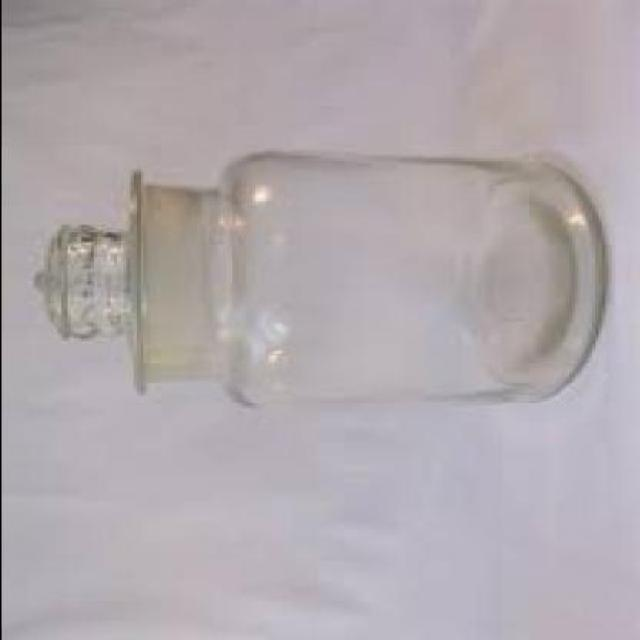GLASS: (30, 158, 604, 410)
